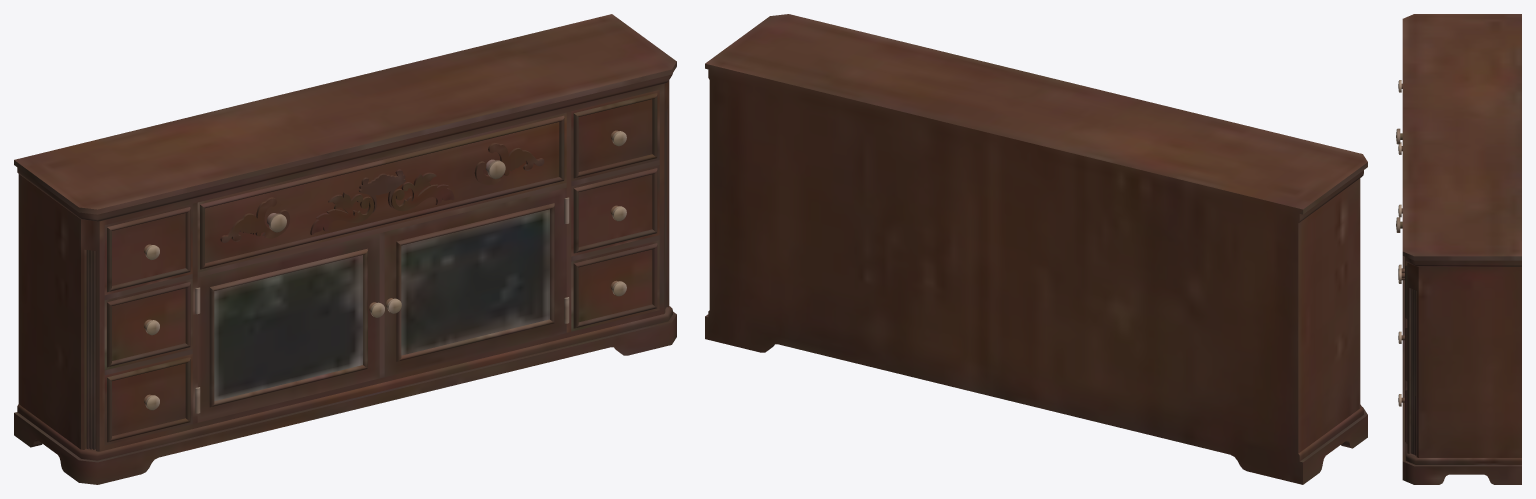
Rendered from SM_Commode_fadbac.glb.
3 renders of one model, left to right at view 1: azimuth 30°, elevation 25°; view 2: azimuth 150°, elevation 25°; view 3: azimuth 270°, elevation 25°, orthographic. The views are drawn at different scales.
Bounding box in the file's own units: 2.5 × 1.1 × 0.5492.
1 material, 1 textured.
